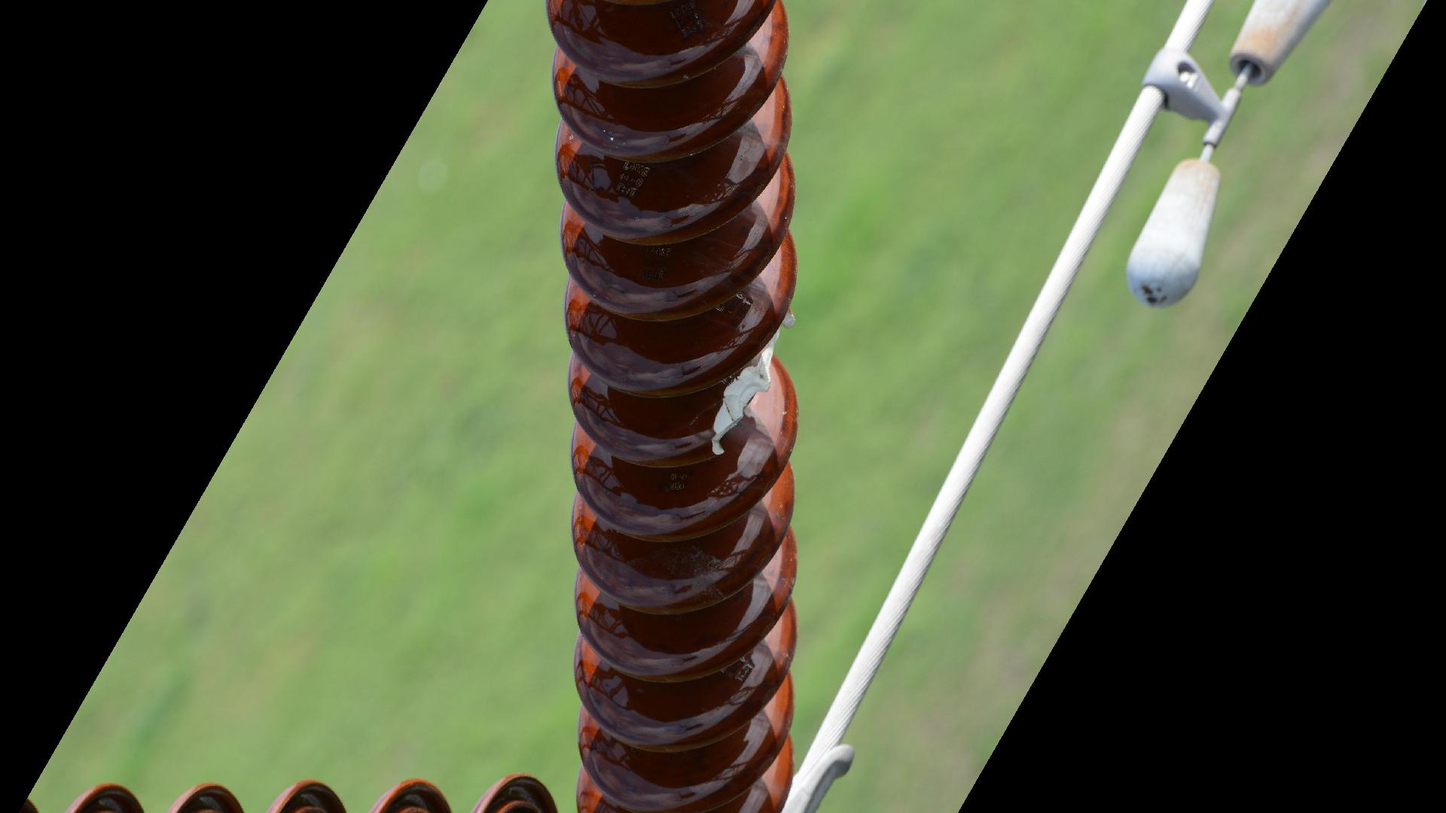insulator: (535, 1, 811, 813)
insulator_breakage: (699, 306, 805, 470)
